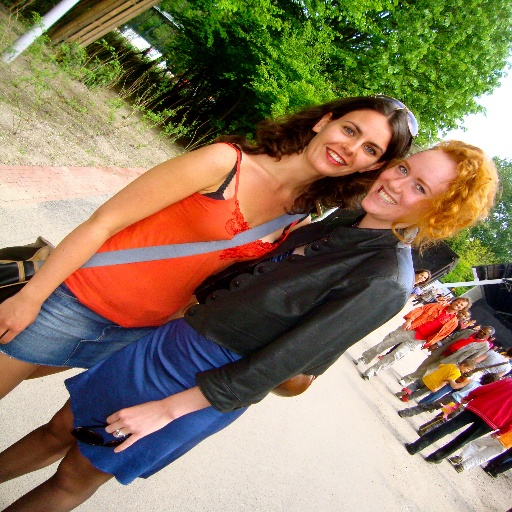hand: (91, 391, 183, 449), (0, 294, 39, 346)
